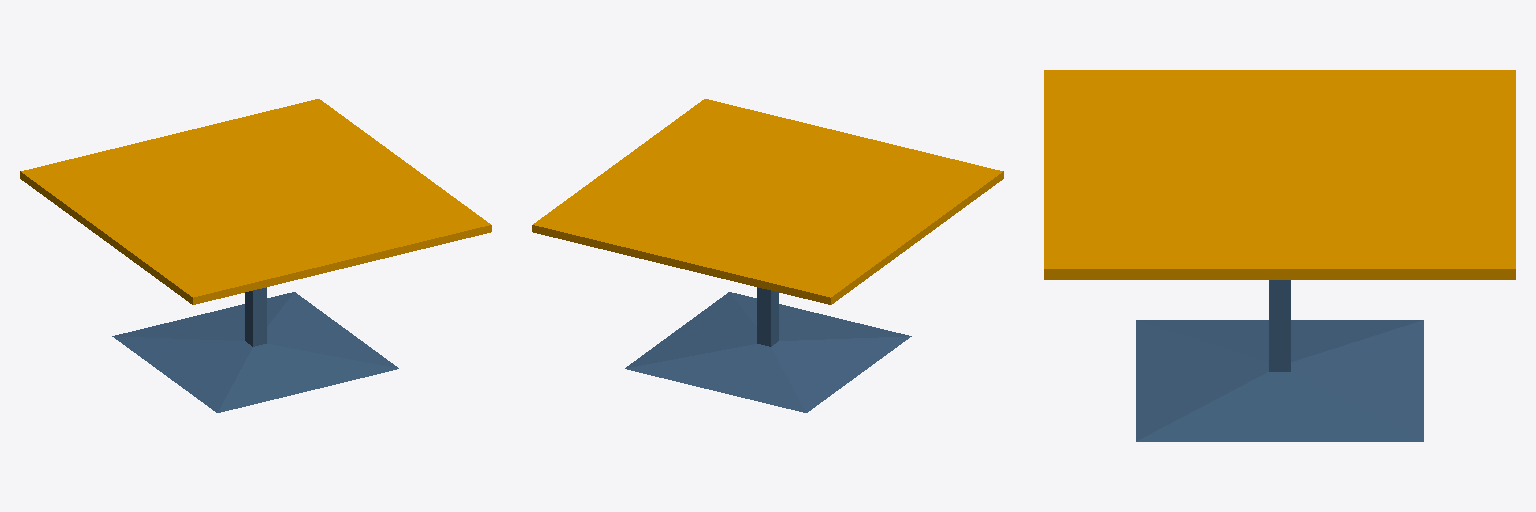
The robot description file, URDF, robot "coffee_table":
<?xml version="1.0" encoding="utf-8"?>
<robot name="coffee_table">
    <link name="base">
      <inertial>
        <mass value="10.0" />
          <inertia
            ixx="0.192"
            ixy="4.9423E-1"
            ixz="1.2752E-1"
            iyy="0.192"
            iyz="2.6417E-1"
            izz="0.29544" />
      </inertial>
      
      <collision>
        <geometry>
          <mesh scale="0.6 0.6 0.35" filename="package://panda_multiple_arms/meshes/coffee_table.dae" />
        </geometry>
      </collision>

      <visual>
        <geometry>
          <mesh scale="0.6 0.6 0.35" filename="package://panda_multiple_arms/meshes/coffee_table.dae" />
        </geometry>
      </visual>

  </link>
</robot>

--- Render facts (derived) ---
Views: 3 orthographic renders of the robot side by side, from view 1: azimuth 30°, elevation 25°; view 2: azimuth 150°, elevation 25°; view 3: azimuth 270°, elevation 25°.
Robot: coffee_table — 1 links, 0 joints (none); root link base; default pose: all joints at 0.
Links seen in each view (by area): view 1: base; view 2: base; view 3: base.
Link boxes in pixels (box(x1,y1,x2,y2)): base: box(20, 99, 491, 412); base: box(532, 99, 1003, 412); base: box(1044, 70, 1515, 441).
Bounding box of the posed robot: 0.5486 × 0.5486 × 0.2711 m (x, y, z).
Meshes: 1 distinct files referenced, 1 mesh visuals loaded (1 Collada DAE).